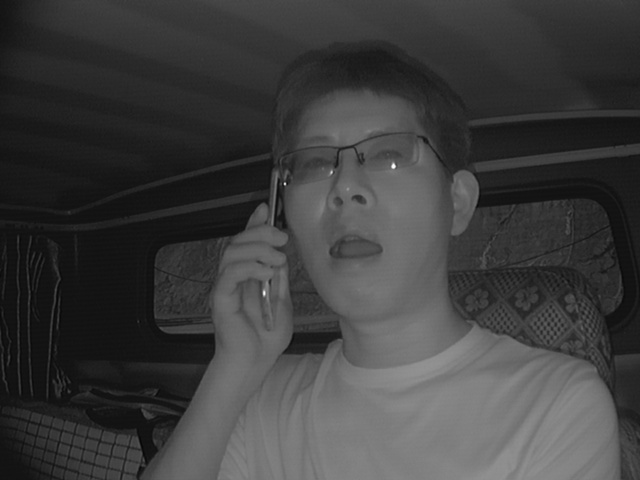hand: (207, 206, 303, 367)
